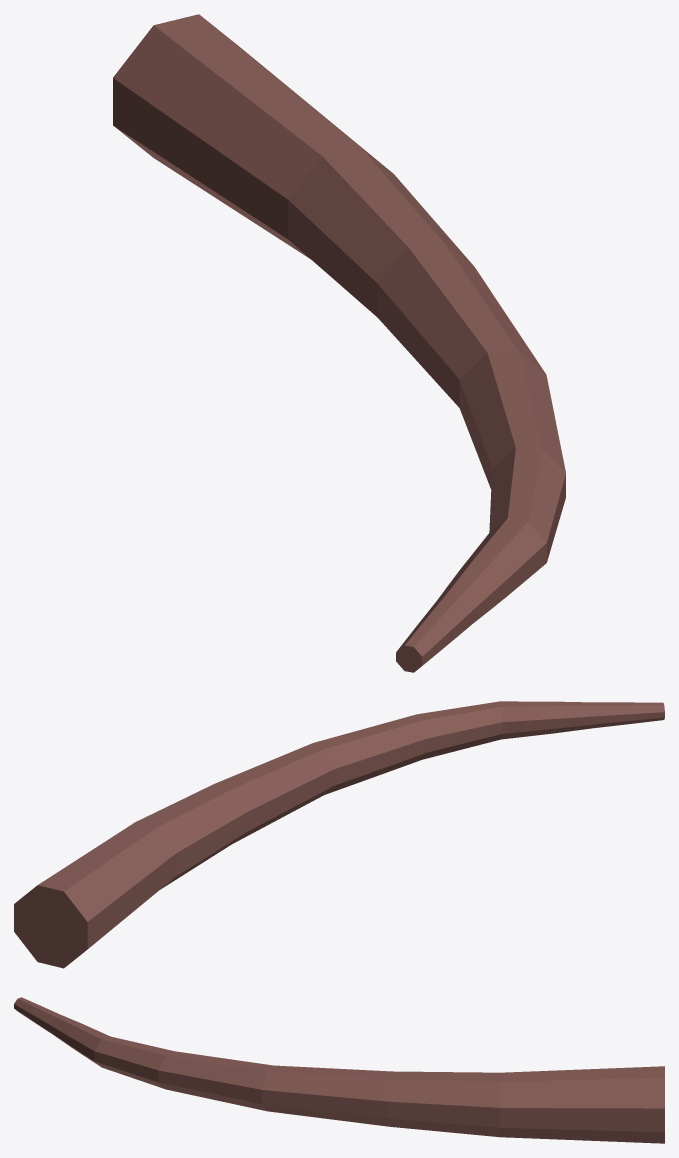
The model's file is Stick2.fbx.
3 renders of one model, top to bottom at view 1: azimuth 30°, elevation 25°; view 2: azimuth 150°, elevation 25°; view 3: azimuth 270°, elevation 25°, orthographic. The views are drawn at different scales.
Parts seen in each view (by area): view 1: Twig2; view 2: Twig2; view 3: Twig2.
Part boxes in pixels (box(x1,y1,x2,y2)): Twig2: box(113, 14, 565, 672); Twig2: box(14, 701, 664, 968); Twig2: box(14, 997, 664, 1143).
Bounding box in the file's own units: 150 × 39.37 × 350.
